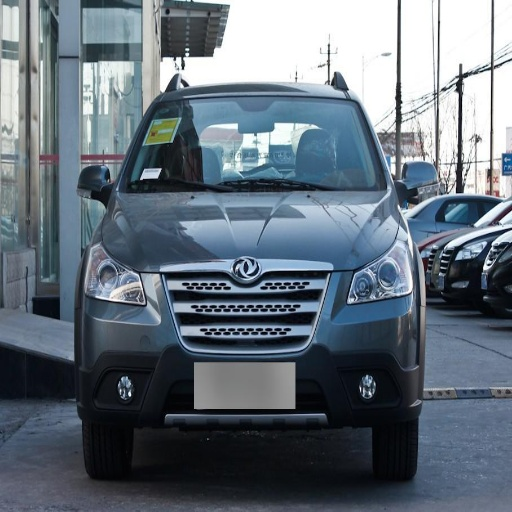front_bumper: (78, 255, 421, 431)
front_right_light: (85, 241, 147, 305)
hood: (105, 190, 399, 271)
left_mirror: (399, 161, 438, 204)
